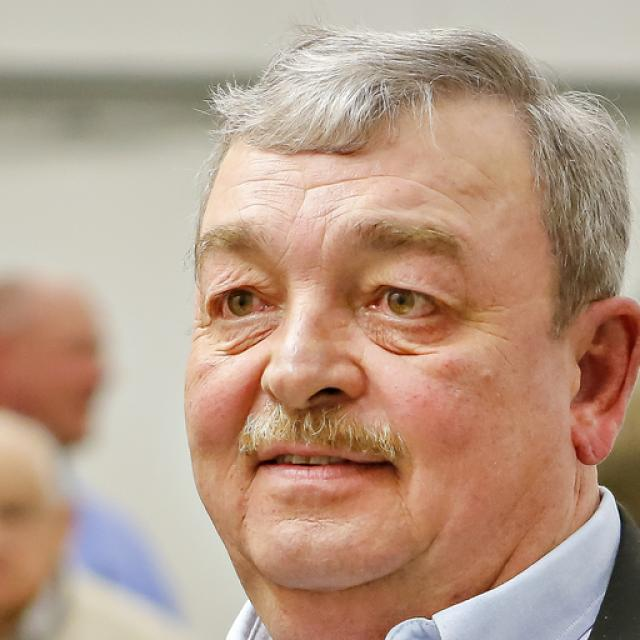Acne: (476, 364, 499, 386)
Wrinkle: (304, 168, 471, 218), (223, 173, 287, 193), (236, 196, 291, 217)
